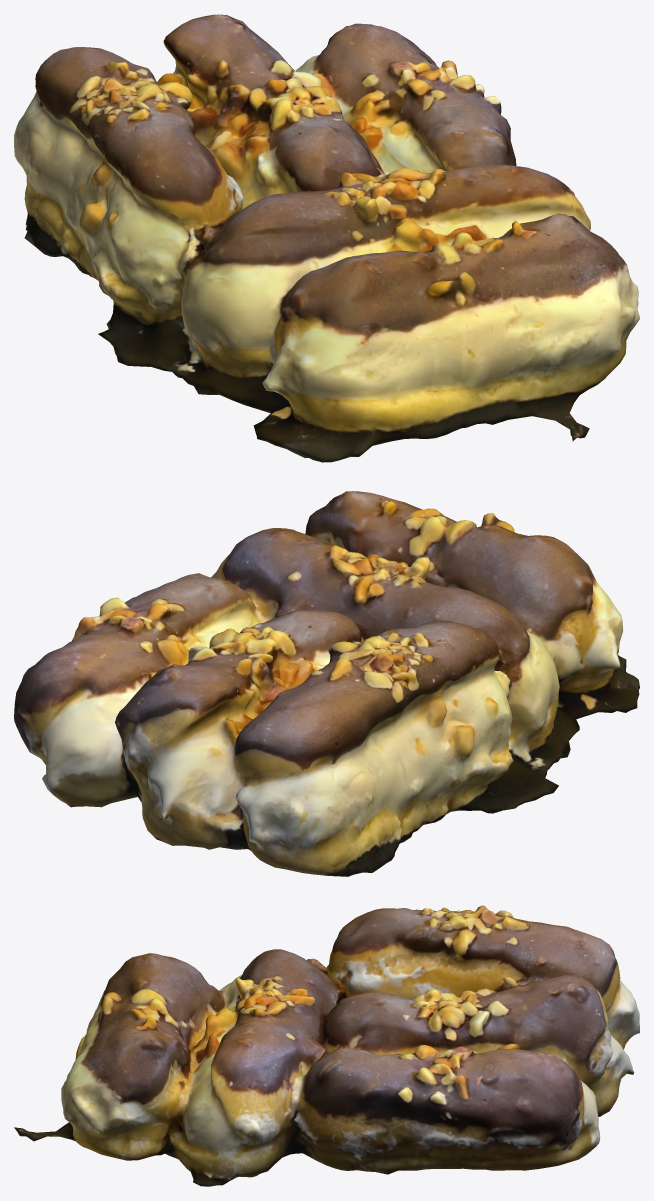
The model's file is ekler.glb.
3 renders of one model, top to bottom at view 1: azimuth 30°, elevation 25°; view 2: azimuth 150°, elevation 25°; view 3: azimuth 270°, elevation 25°, orthographic. The views are drawn at different scales.
Parts seen in each view (by area): view 1: ObjectCapture; view 2: ObjectCapture; view 3: ObjectCapture.
Part boxes in pixels (x1,y1,x2,y2): ObjectCapture: (14,14,639,462); ObjectCapture: (14,491,639,876); ObjectCapture: (14,905,639,1186).
Size of the model in its own units: 0.1091 by 0.0482 by 0.1679.
1 material, 1 textured.
